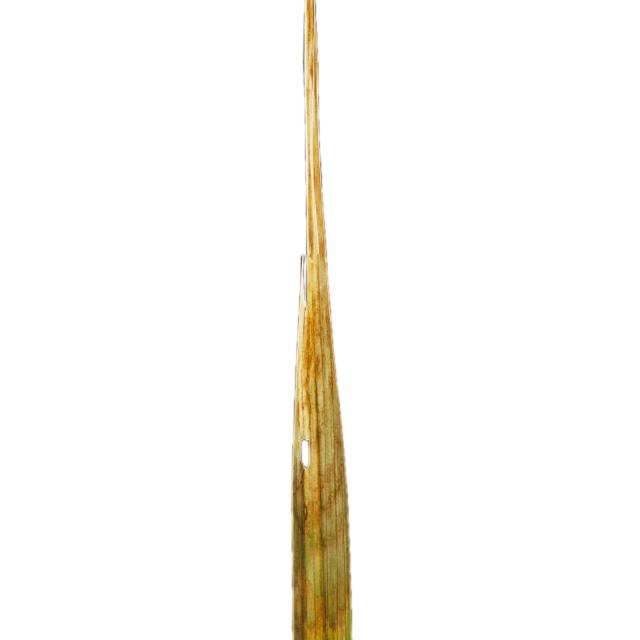Leaf scald: (228, 0, 471, 640)
